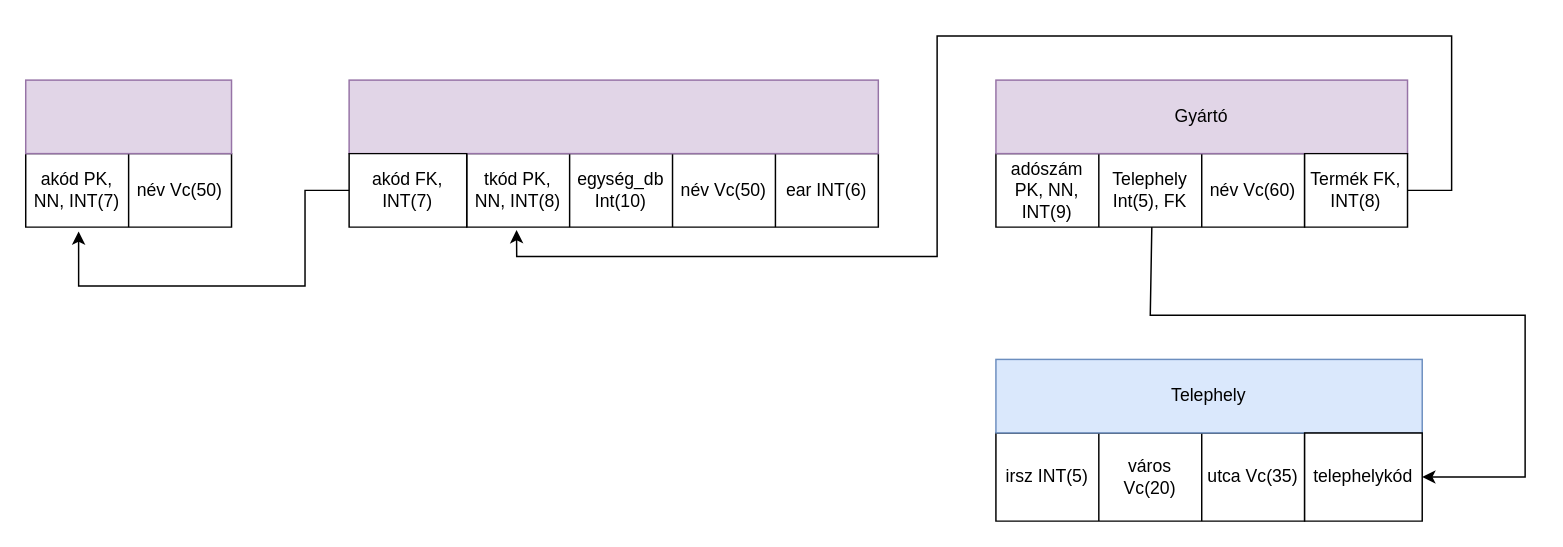
Some shapes in this 1563 by 547 pixel diagram are drawn without their labels. The box of each missing label's shape, as (x1, y1, x2, y2) in pixels:
alkatrész: (24, 79, 232, 154)
Termék: (348, 79, 878, 154)
